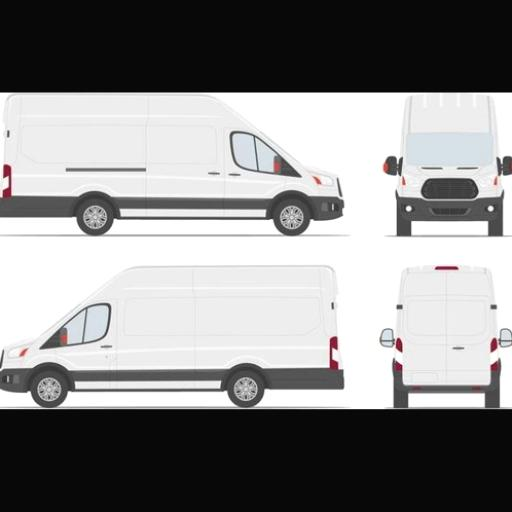van: (0, 266, 343, 407), (0, 93, 343, 234), (380, 266, 512, 407), (385, 93, 512, 234)
